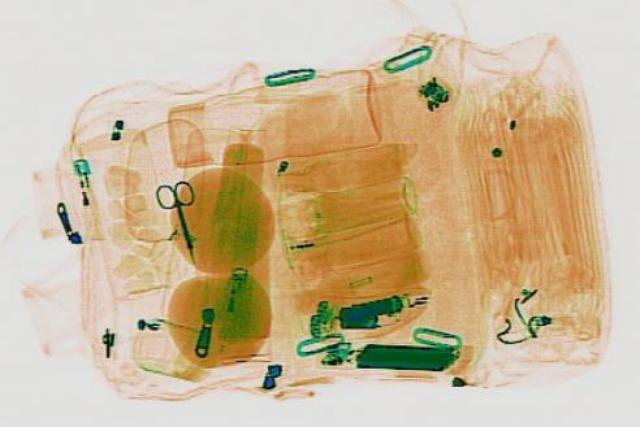Scissors: (148, 178, 214, 263)
